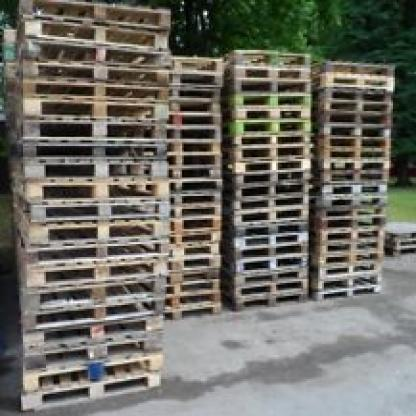BoxFace: (13, 237, 170, 290), (12, 39, 170, 73), (4, 157, 165, 183), (5, 99, 169, 122)
